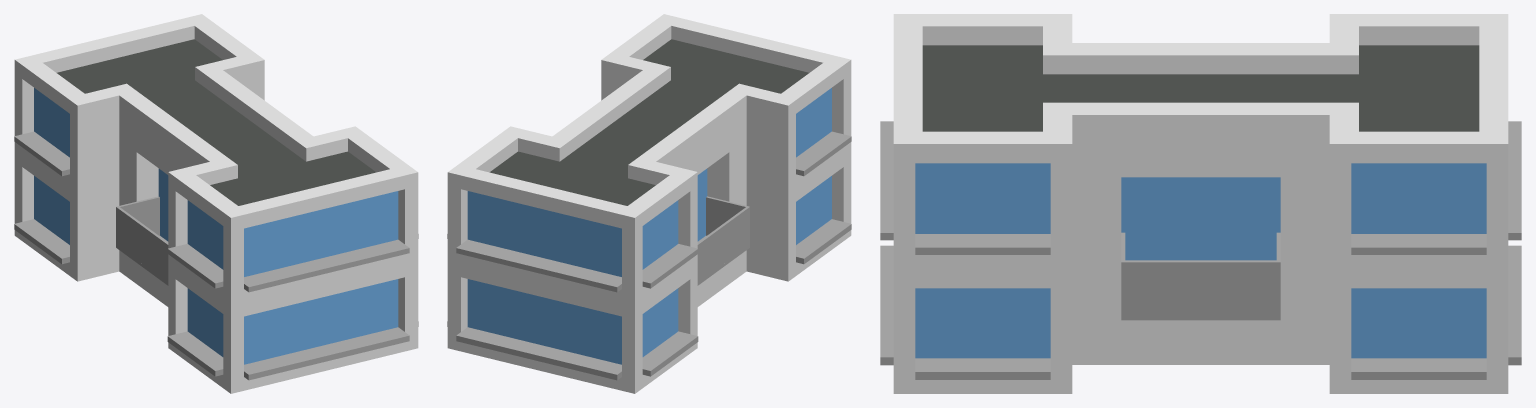
File: building_1x2_5_r.glb
The picture shows the model from 3 angles, left to right: view 1: azimuth 30°, elevation 25°; view 2: azimuth 150°, elevation 25°; view 3: azimuth 270°, elevation 25°; orthographic projection. The views are drawn at different scales.
Parts seen in each view (by area): view 1: Cube.002; view 2: Cube.002; view 3: Cube.002.
Boxes of the visible parts, x1,y1,x2,y2 form: Cube.002: (14, 14, 418, 393); Cube.002: (447, 14, 851, 393); Cube.002: (880, 14, 1521, 393).
Bounding box in the file's own units: 1.94 × 1.6 × 3.72.
